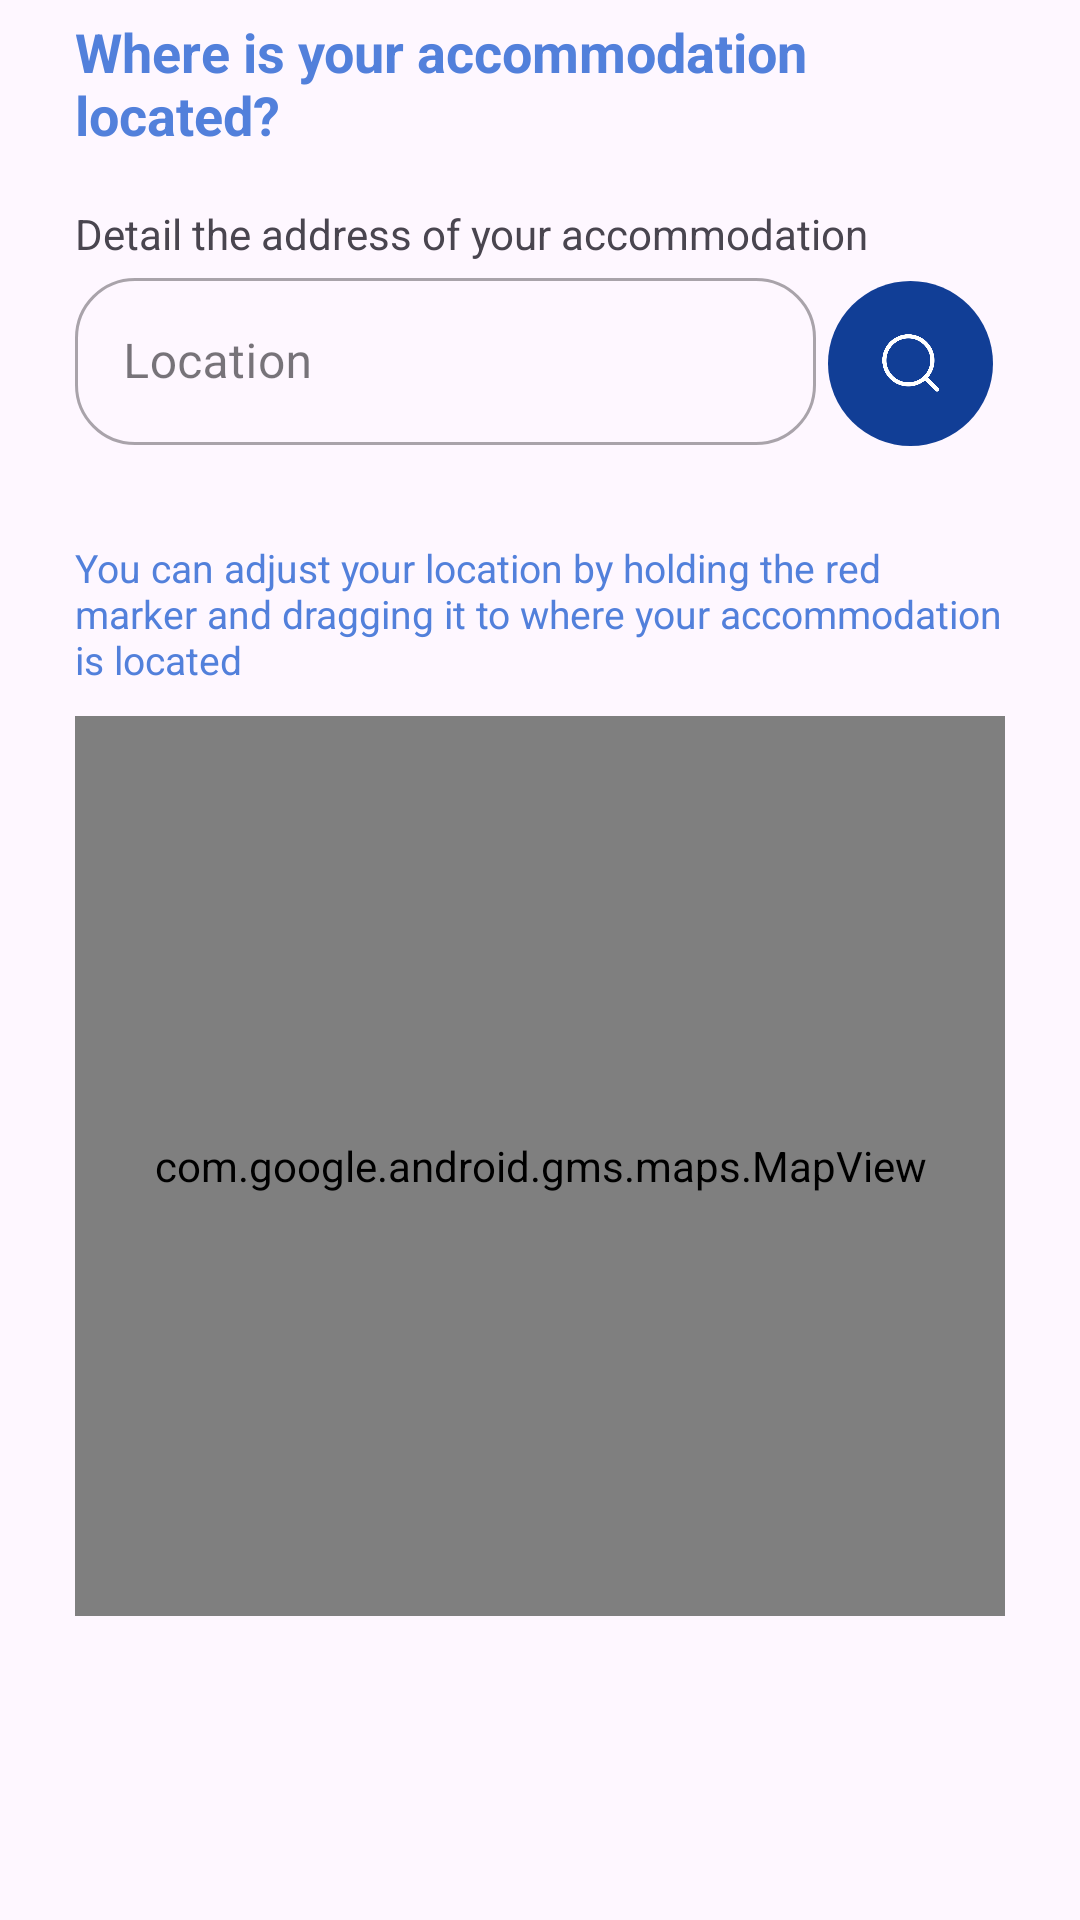

Screen size 1080 x 1920. Icon name, then its box in pixels as bbox(x1, y1, x2, y2):
search: bbox(828, 281, 993, 446)
